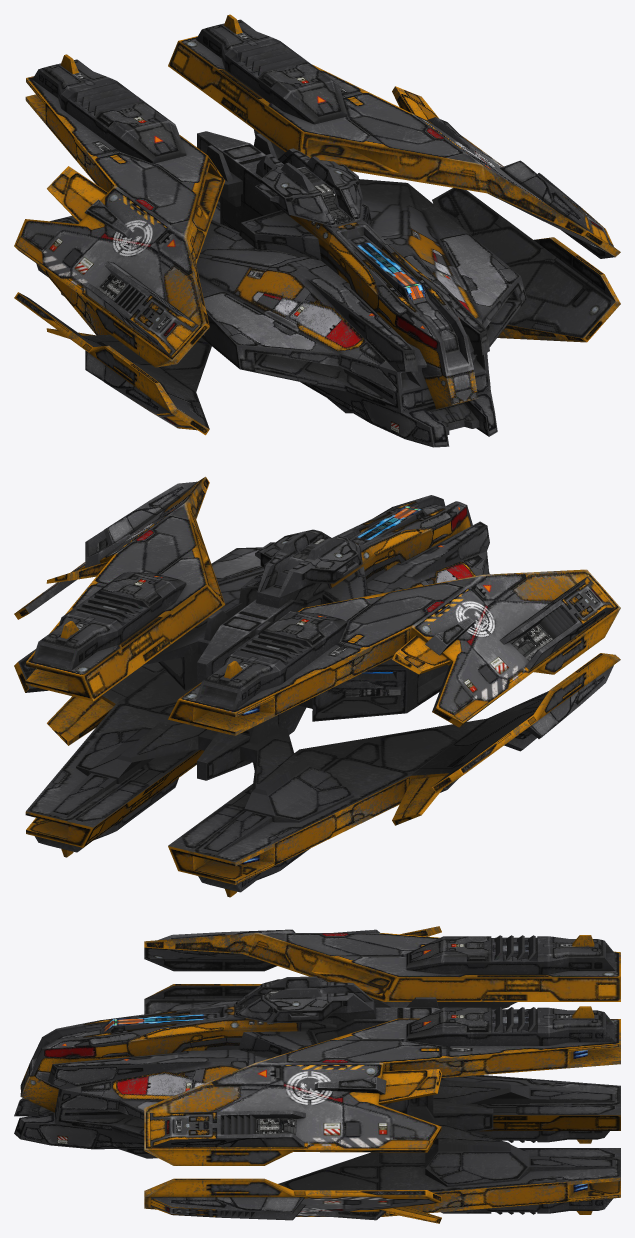
Rendered from large_fighter.glb.
3 views of the same model, one above another, from view 1: azimuth 30°, elevation 25°; view 2: azimuth 150°, elevation 25°; view 3: azimuth 270°, elevation 25° (orthographic). The views are drawn at different scales.
Visible parts, largest first — view 1: SciFi_Fighter; view 2: SciFi_Fighter; view 3: SciFi_Fighter.
Part boxes in pixels (x1=…): SciFi_Fighter: x1=14, y1=14, x2=620, y2=447; SciFi_Fighter: x1=14, y1=476, x2=620, y2=897; SciFi_Fighter: x1=14, y1=926, x2=620, y2=1223.
Size of the model in its own units: 1.54 by 0.7477 by 1.98.
1 material, 1 textured.
